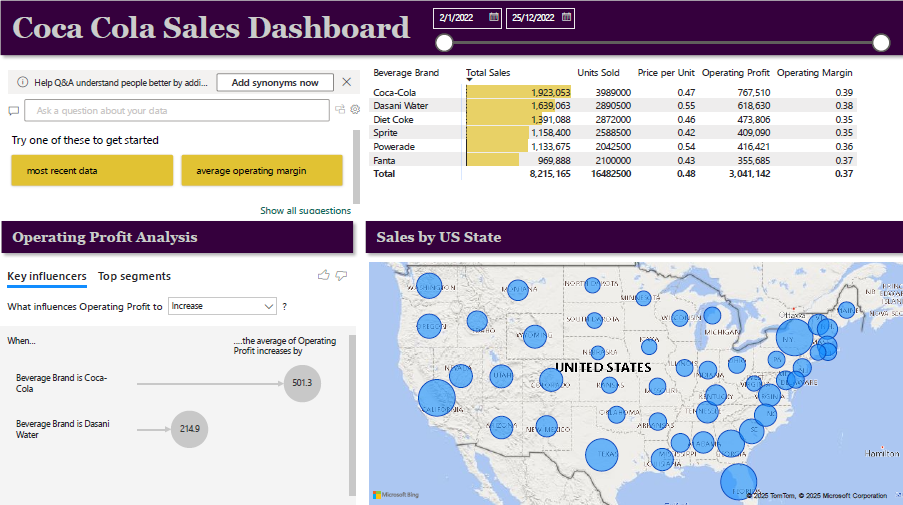

The dashboard page shown, as its layout file describes it:
{"tool":"powerbi","page":{"name":"Page 1","canvas":[1280,720],"ordinal":0},"visuals":[{"type":"shape","box":[0,0,1280,94.3],"z":0},{"type":"shape","box":[0.2,307.6,509.3,62.9],"z":1000},{"type":"shape","box":[509.5,307.6,771.2,62.9],"z":2000},{"type":"qnaVisual","box":[10,94.3,508.6,221.4],"z":3000},{"type":"keyDriversVisual","fields":{"Target":["Data.Operating Profit"],"ExplainBy":["Data.Beverage Brand"]},"box":[0,370,508.6,350],"z":4000},{"type":"map","fields":{"Category":["Data.State"],"Size":["Sum(Data.Total Sales)"]},"box":[518.6,370,761.4,350],"z":5000},{"type":"pivotTable","fields":{"Rows":["Data.Beverage Brand"],"Values":["Sum(Data.Total Sales)","Sum(Data.Units Sold)","Avg(Data.Price per Unit)","Sum(Data.Operating Profit)","Avg(Data.Operating Margin)"]},"box":[518.6,94.3,761.4,221.4],"z":6000},{"type":"slicer","fields":{"Values":["Data.Invoice Date"]},"box":[600,10,661.4,71.4],"z":7000}]}

Visuals, with their boxes on the page's 1280x720 design canvas (x1, y1, x2, y2). These are canvas units, not pixel positions in the 903x505 screenshot, which may show the page scaled, cropped or inside an application window:
shape: 0,0,1280,94
shape: 0,308,510,370
shape: 510,308,1281,370
qnaVisual: 10,94,519,316
keyDriversVisual - Data.Operating Profit x Data.Beverage Brand: 0,370,509,720
map - Data.State x Sum(Data.Total Sales): 519,370,1280,720
pivotTable - Data.Beverage Brand x Sum(Data.Total Sales): 519,94,1280,316
slicer - Data.Invoice Date: 600,10,1261,81
